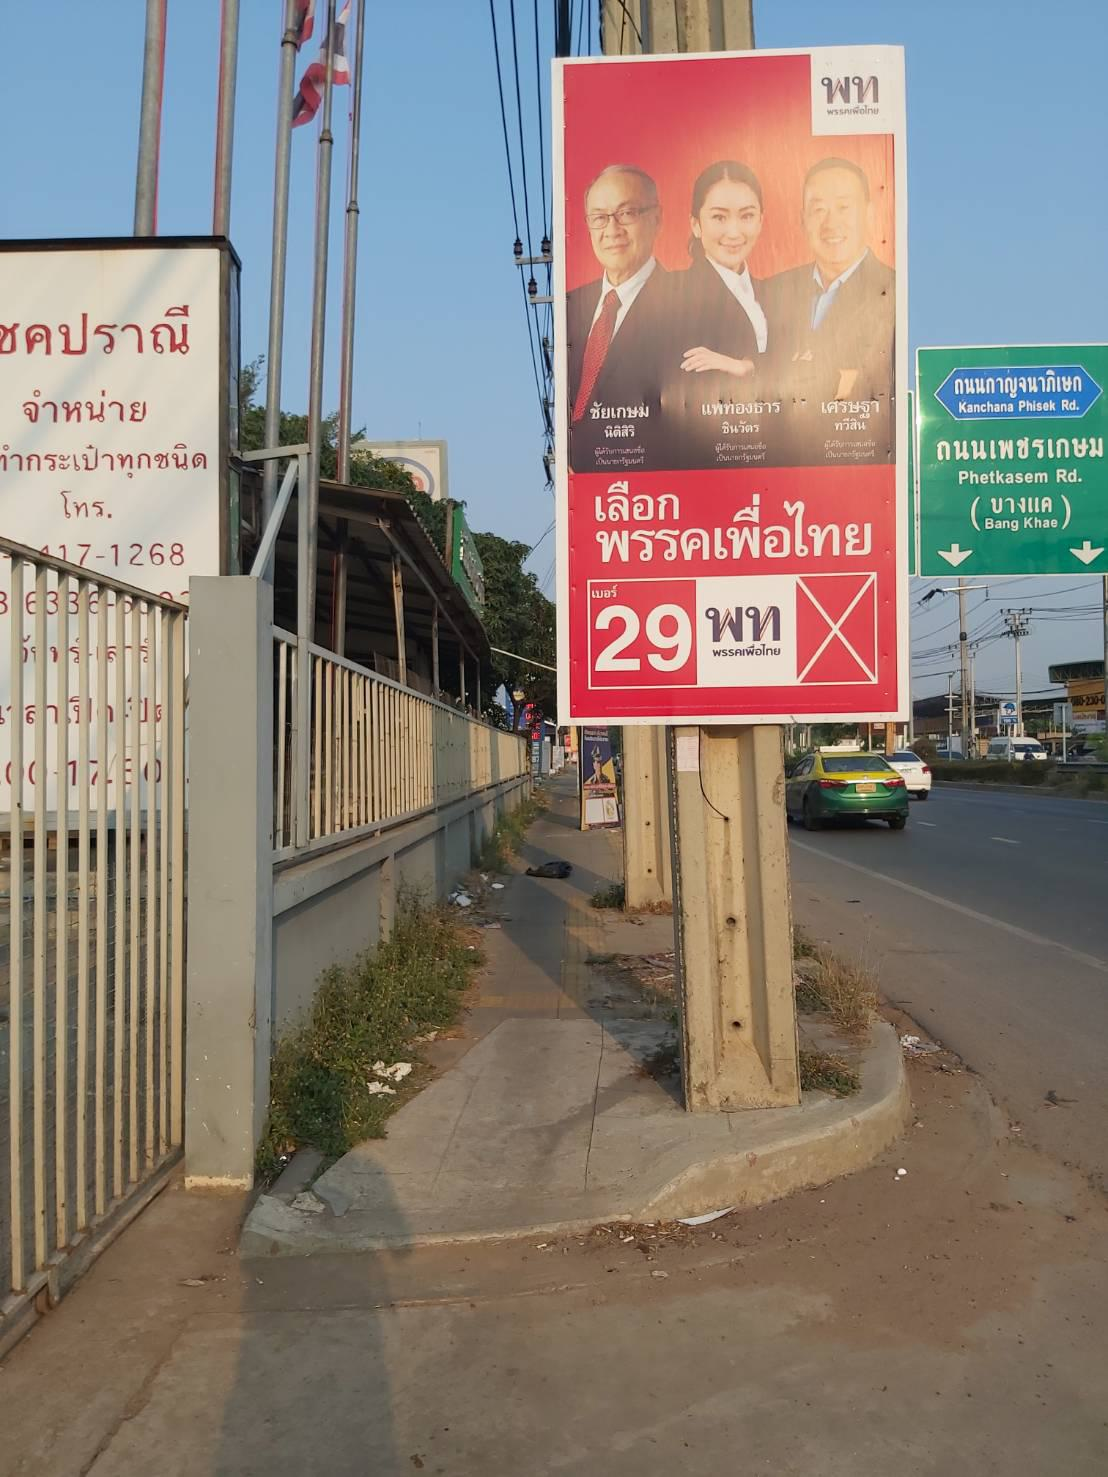Banner: (542, 54, 908, 740)
